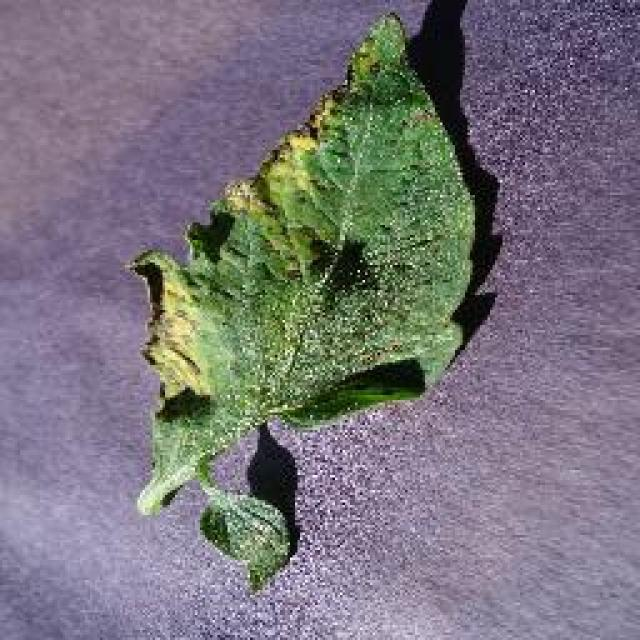Tomato Septoria spot leaf: (128, 14, 480, 438)
